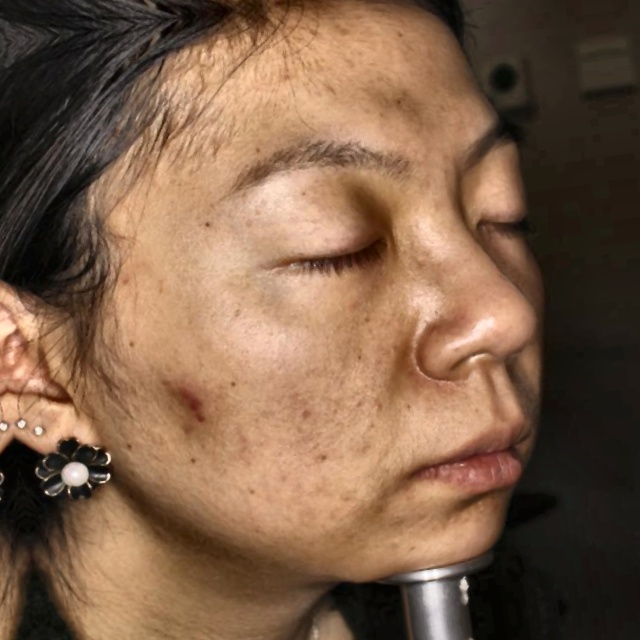comedone: (162, 378, 216, 422)
